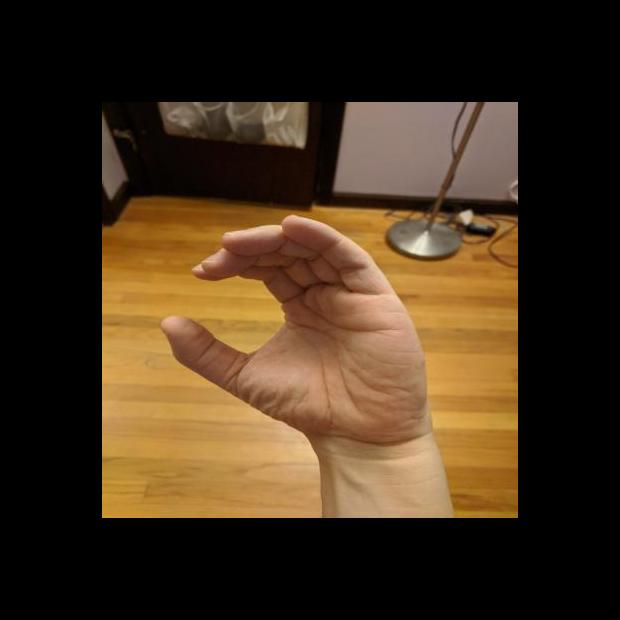B: (157, 211, 440, 444)
